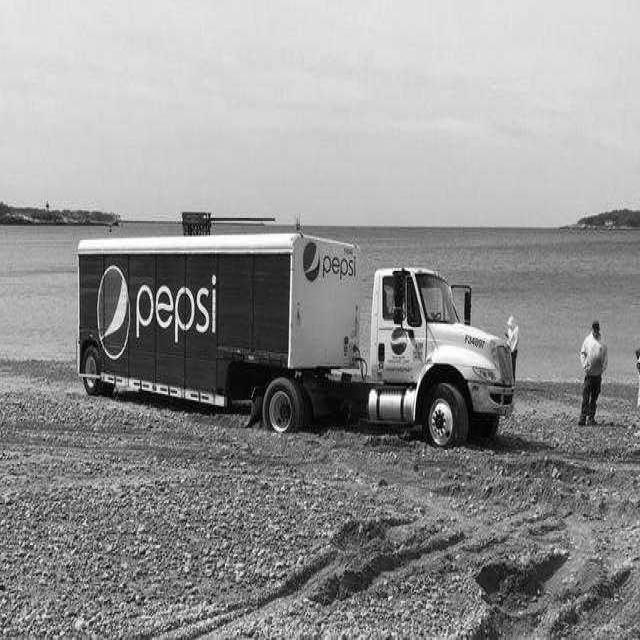Truck: (77, 234, 515, 446)
